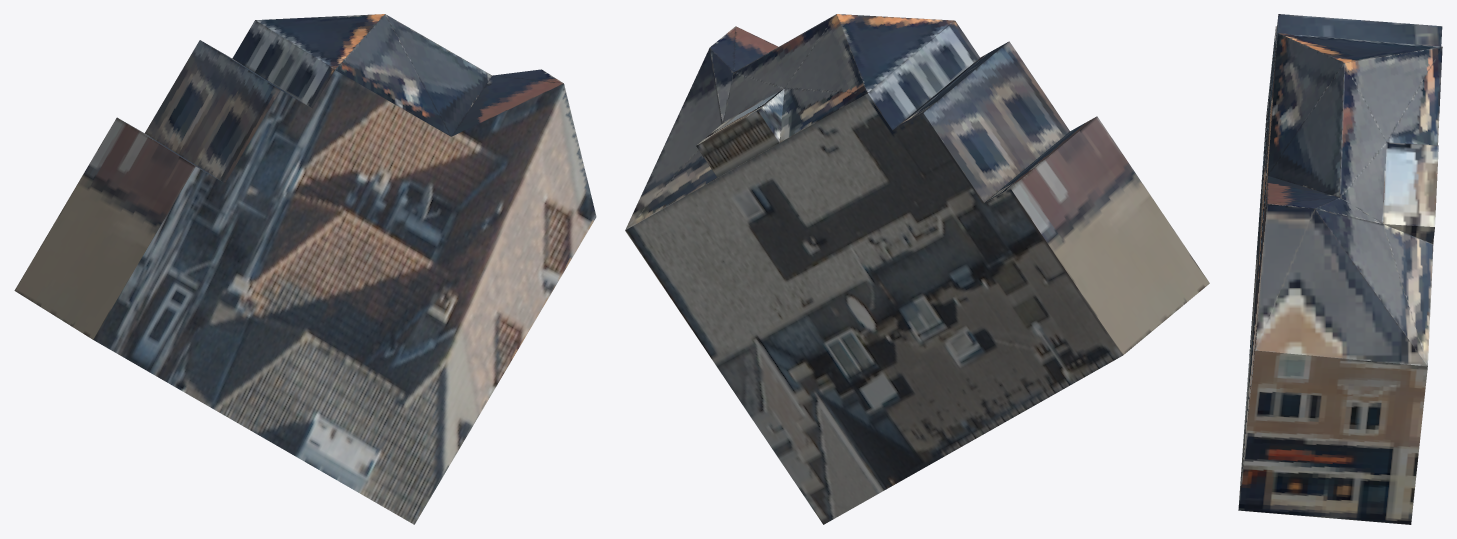
3 views of the same model, side by side, from view 1: azimuth 30°, elevation 25°; view 2: azimuth 150°, elevation 25°; view 3: azimuth 270°, elevation 25° (orthographic).
Parts seen in each view (by area): view 1: BAG_0599100000760368 (×4); view 2: BAG_0599100000760368 (×5); view 3: BAG_0599100000760368 (×6).
Part boxes in pixels (box(x1,y1,x2,y2)): BAG_0599100000760368 (×4): box(14, 14, 596, 524); BAG_0599100000760368 (×5): box(625, 14, 1209, 524); BAG_0599100000760368 (×6): box(1238, 14, 1442, 524).
Bounding box in the file's own units: 18.79 × 17.18 × 6.74.
1 material, 1 textured.
